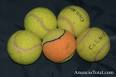tennis ball: (5, 28, 43, 66), (41, 28, 78, 64), (76, 26, 111, 63), (57, 4, 93, 37), (23, 6, 58, 38)
